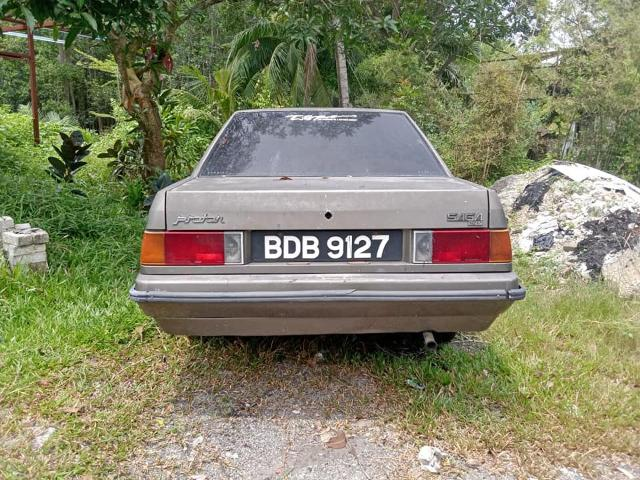License_Plate: (248, 231, 405, 263)
car: (133, 99, 525, 352)
